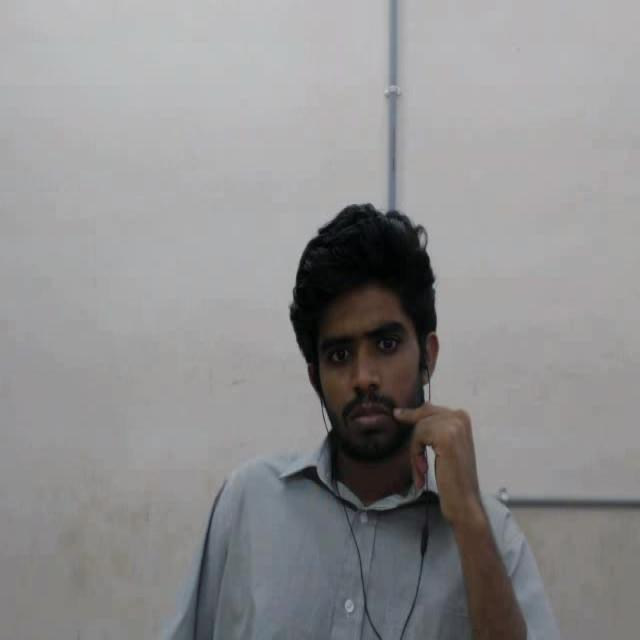Bored: (262, 194, 458, 515)
